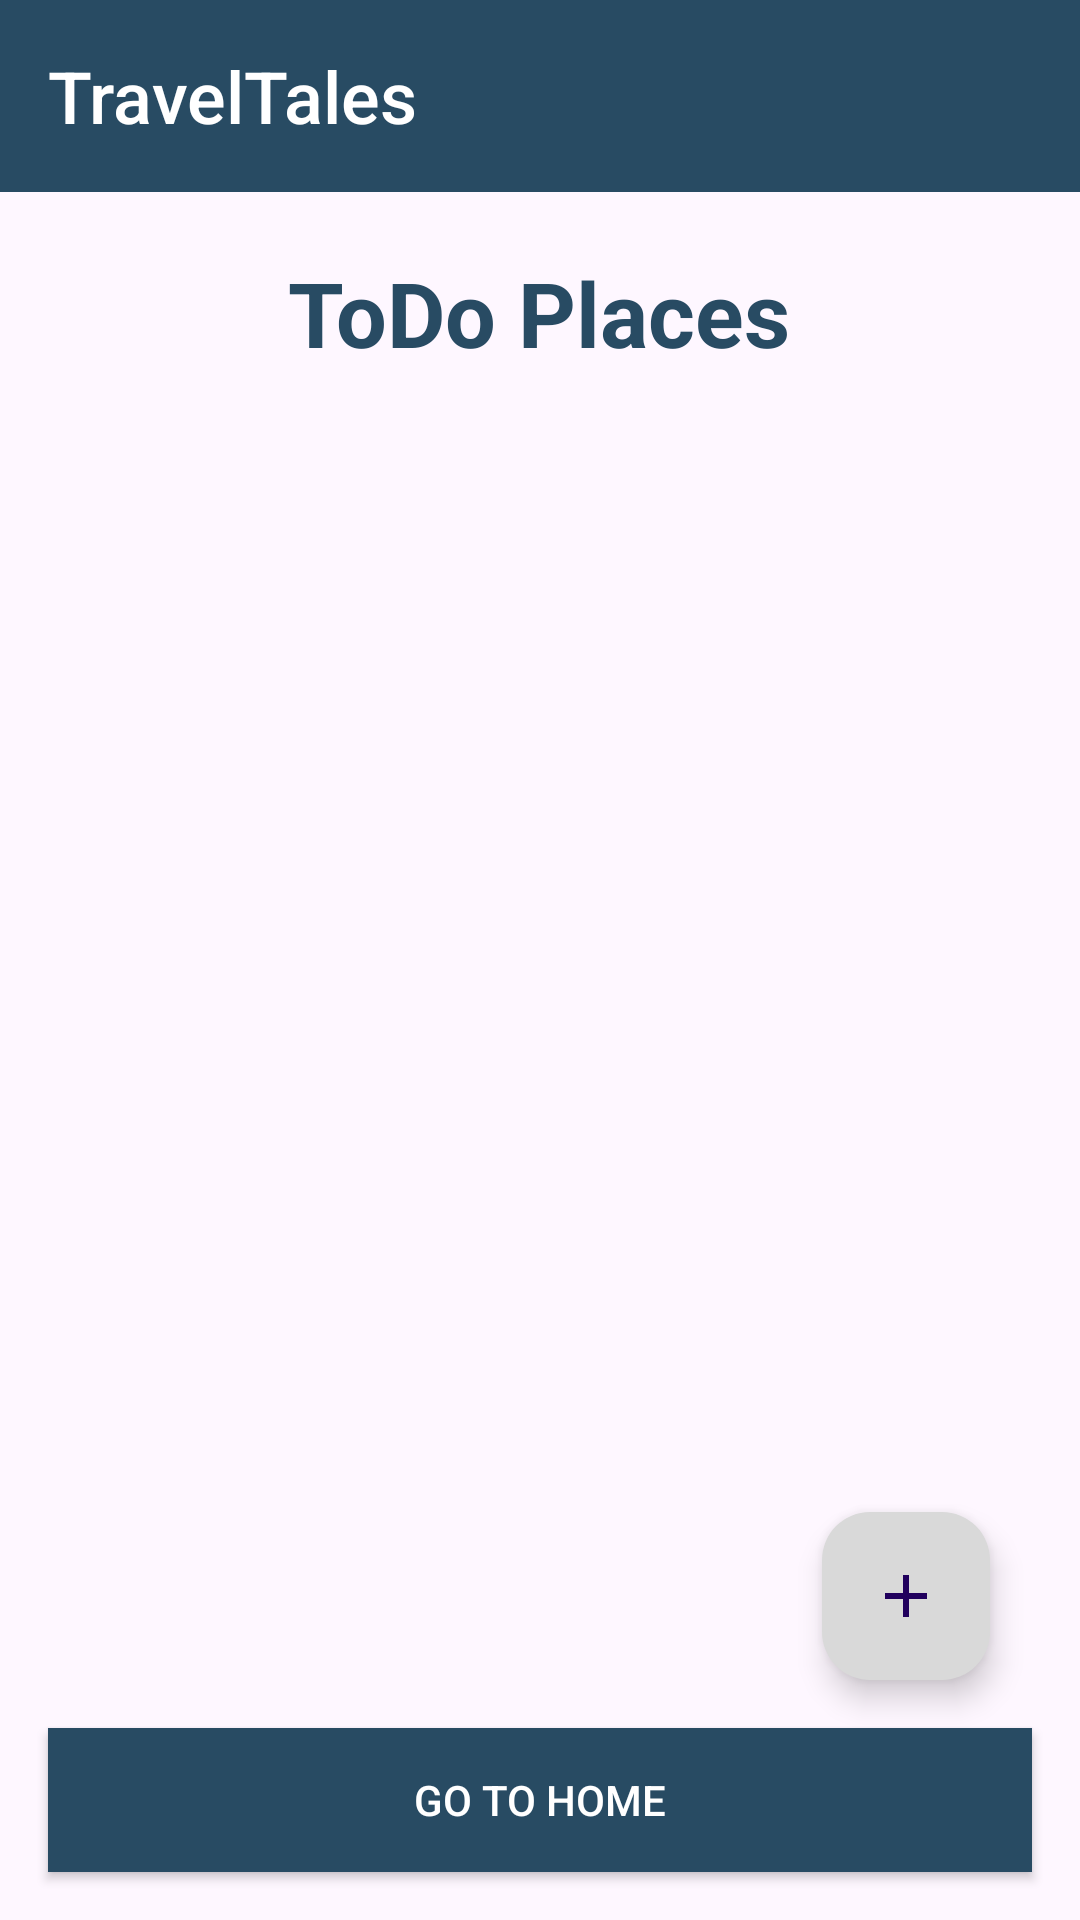

Icon click points for this 1080 x 1920 phone screenshot, format point (x, y):
add: point (906, 1596)
